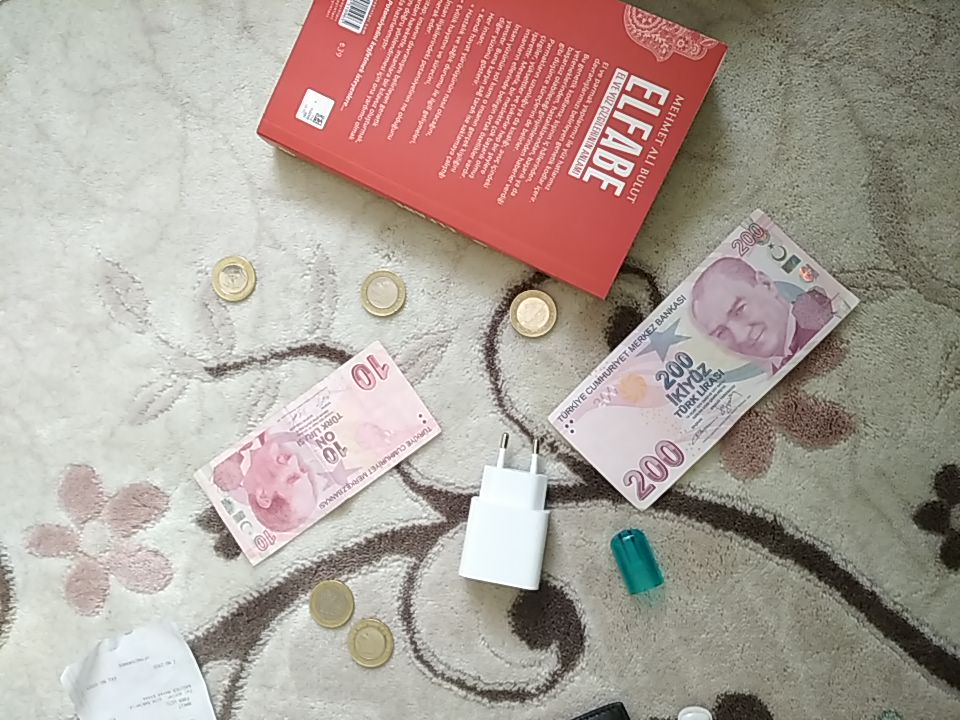200TL: (545, 207, 863, 514)
